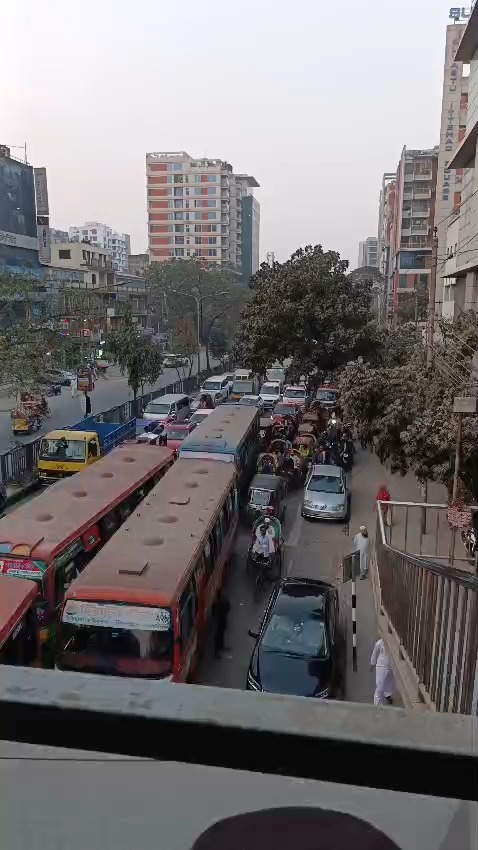Bus: (1, 454, 242, 679)
Truck: (35, 413, 139, 481)
private car: (244, 573, 343, 701), (301, 460, 353, 526)
